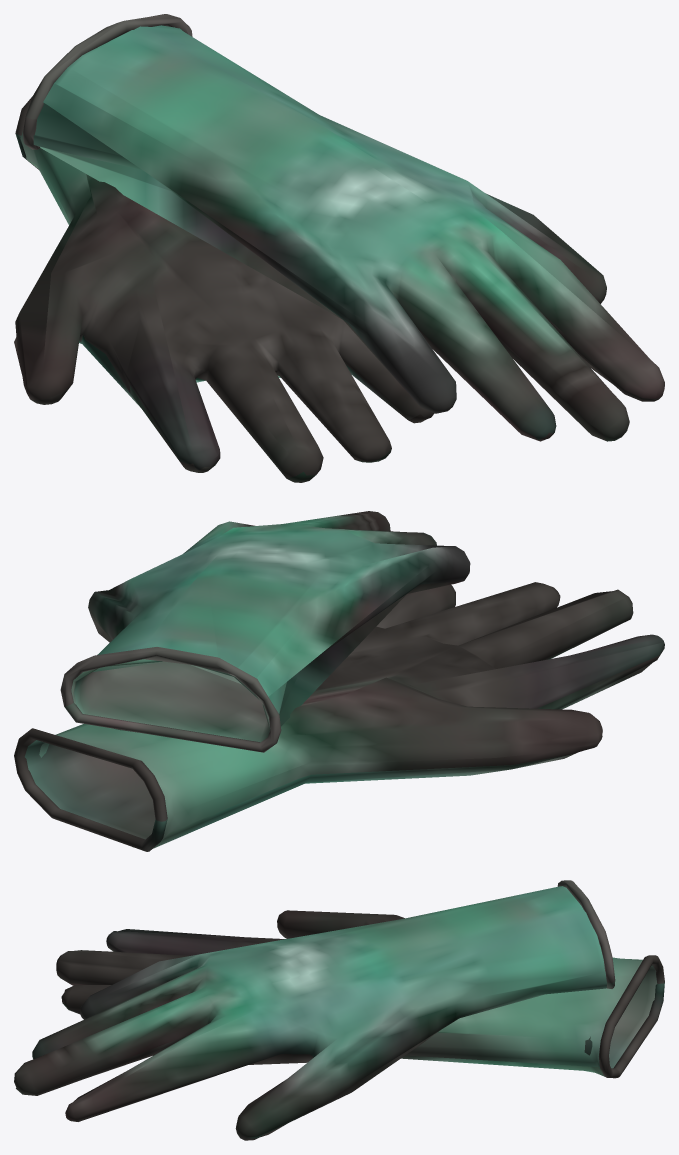
3 views of the same model, one above another, from view 1: azimuth 30°, elevation 25°; view 2: azimuth 150°, elevation 25°; view 3: azimuth 270°, elevation 25° (orthographic). The views are drawn at different scales.
Parts seen in each view (by area): view 1: garden_gloves_01; view 2: garden_gloves_01; view 3: garden_gloves_01.
Part boxes in pixels (x1,y1,x2,y2): garden_gloves_01: (14,14,664,482); garden_gloves_01: (14,511,664,851); garden_gloves_01: (14,880,664,1140).
Bounding box in the file's own units: 0.2266 × 0.0751 × 0.2988.
Materials: 1 (1 with a texture image).
